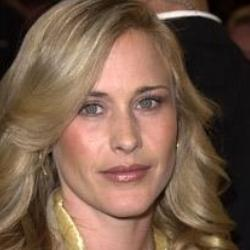face: (2, 1, 237, 244)
